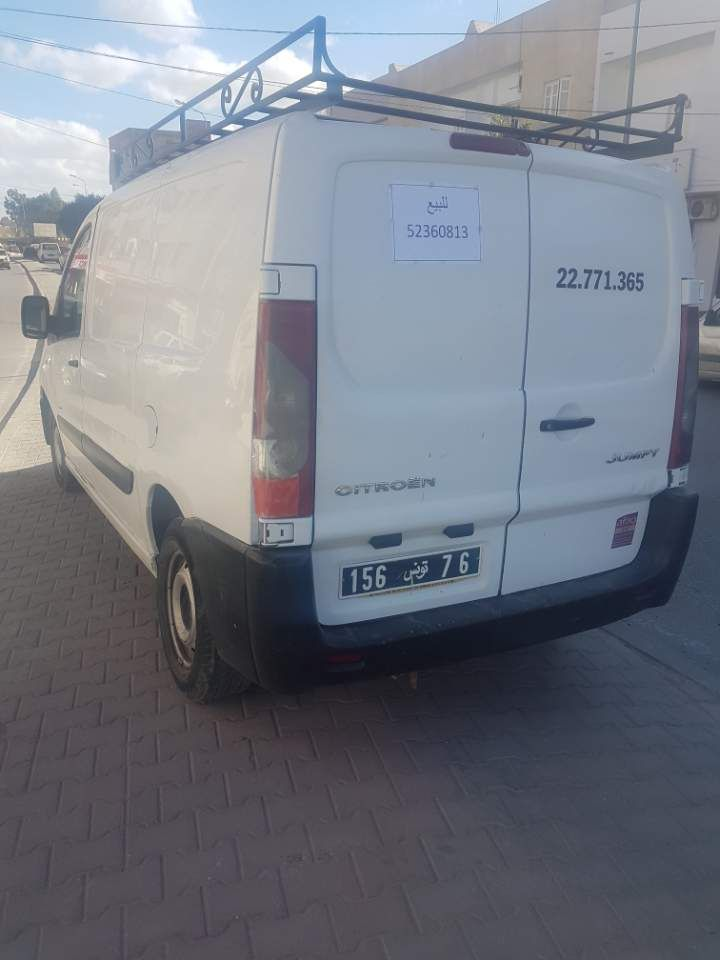LP: (339, 546, 484, 599)
